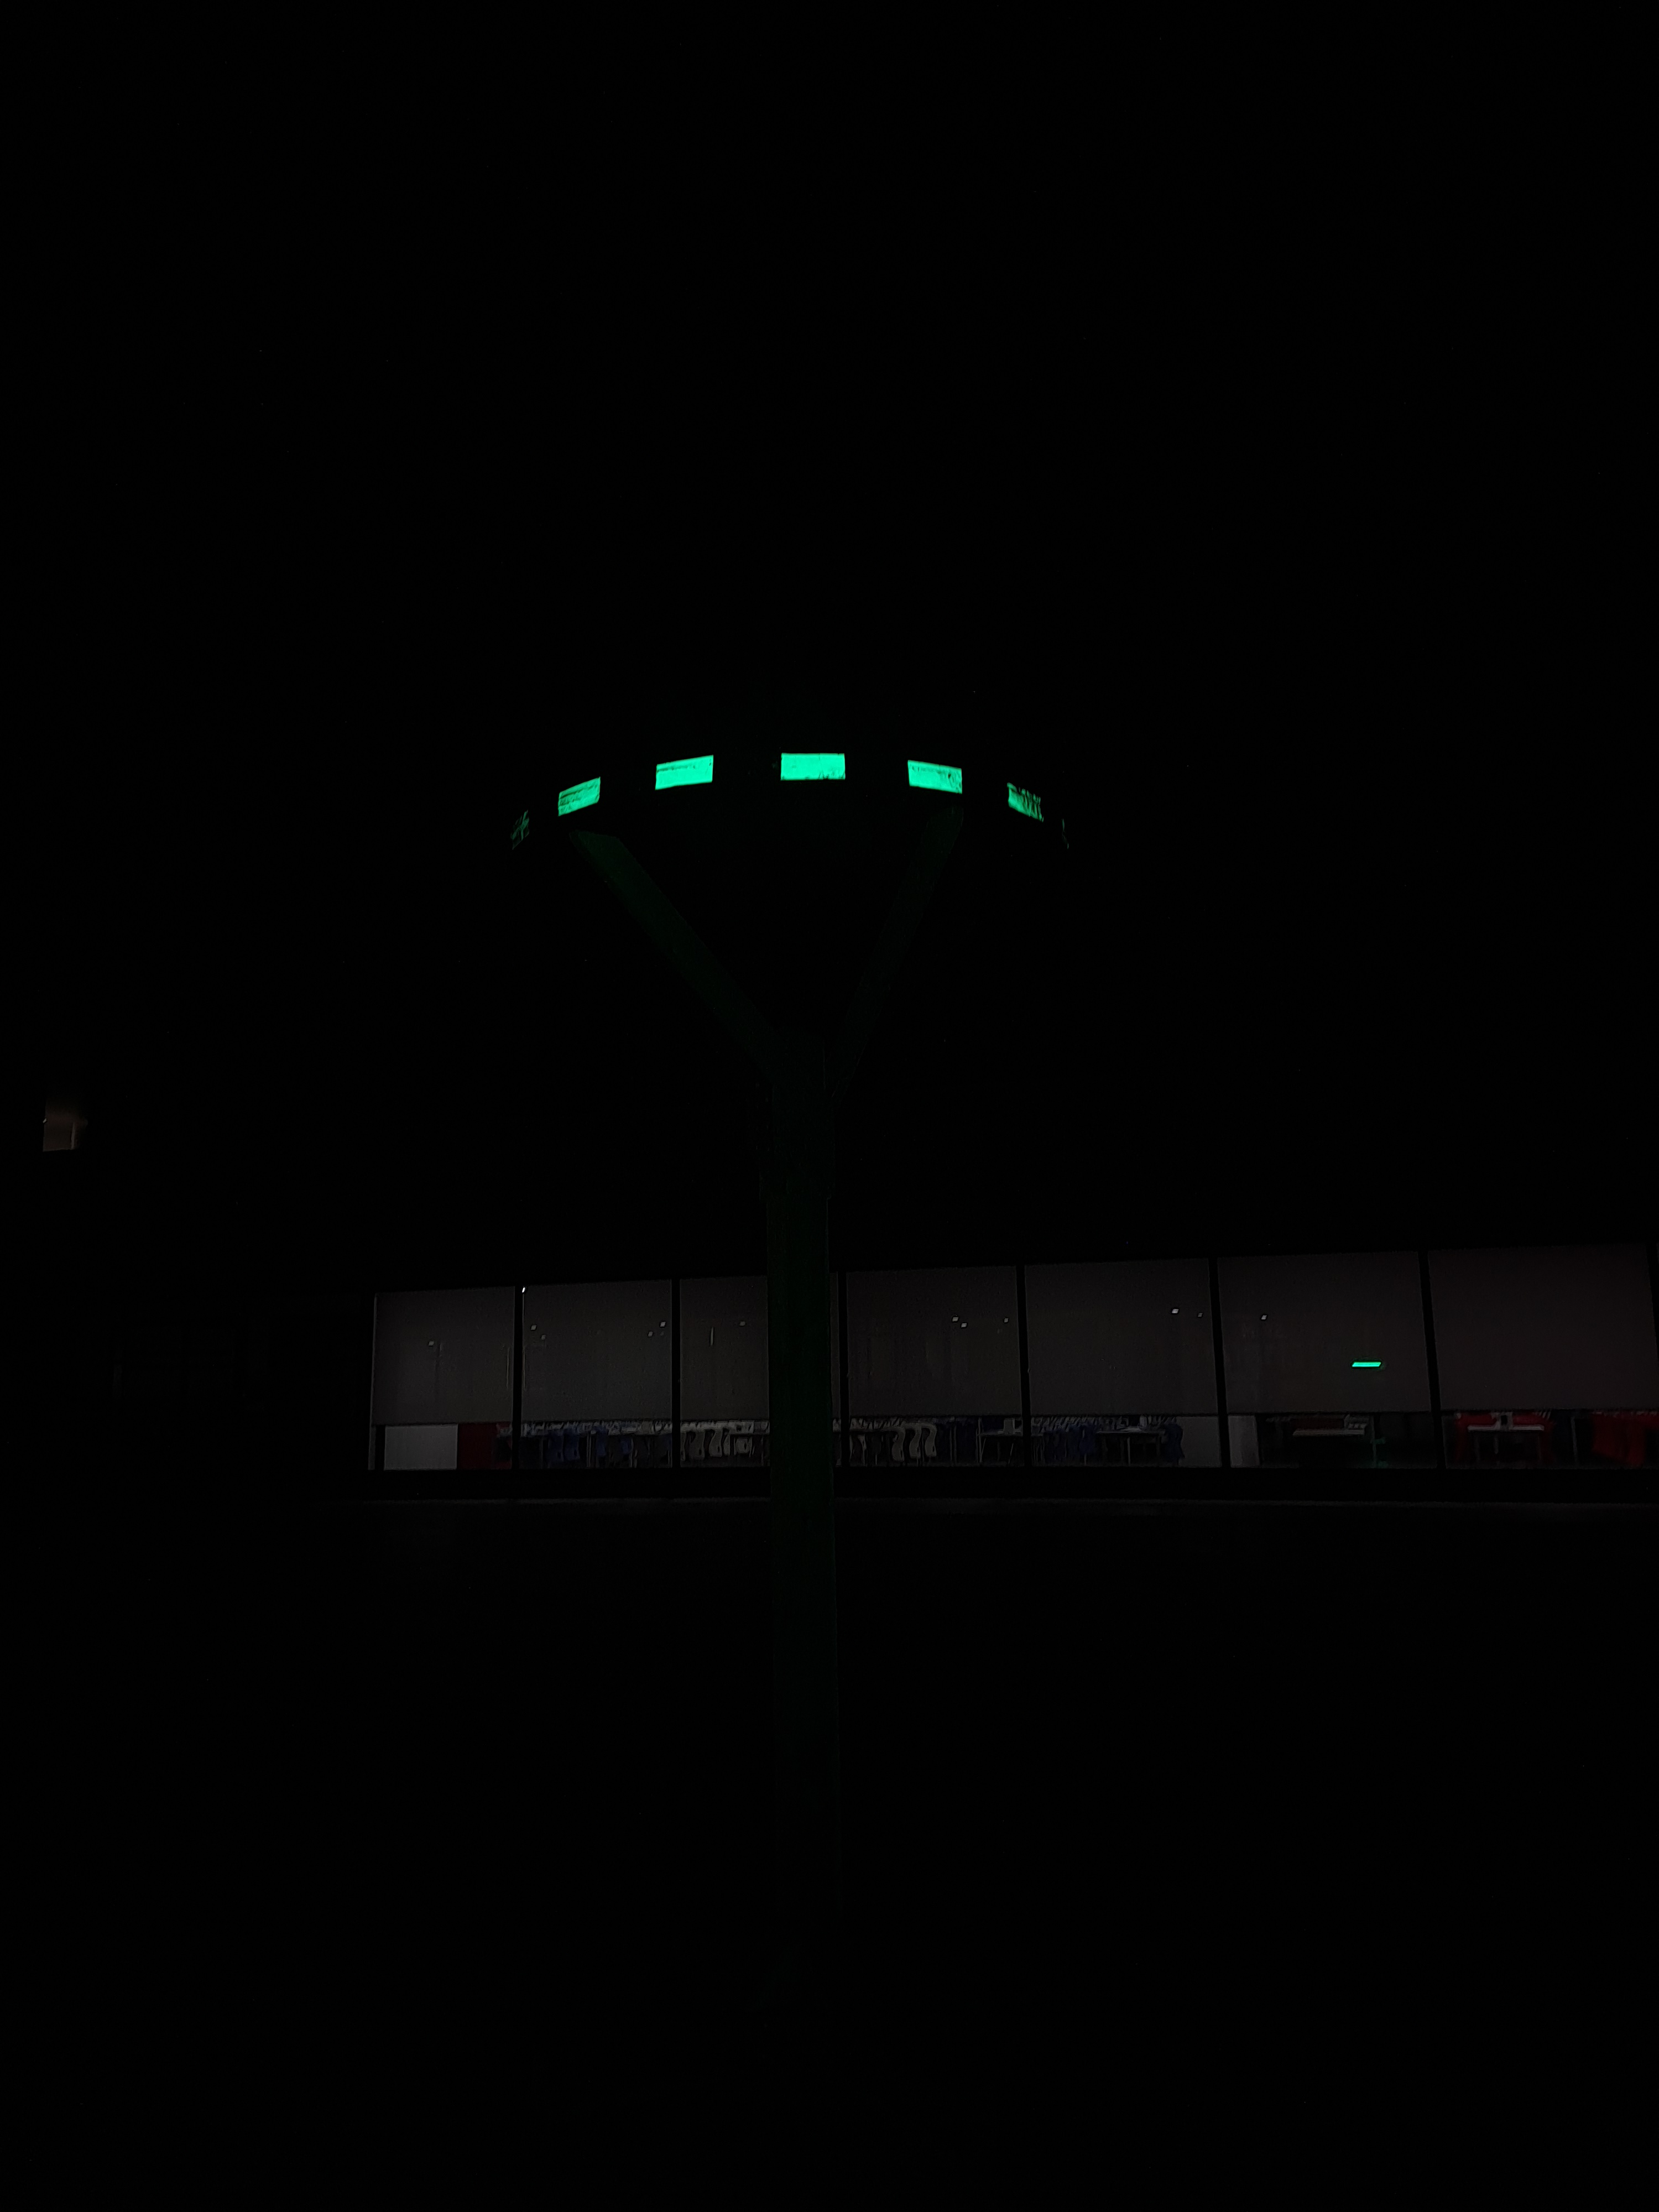hoop: (547, 742, 1051, 833)
